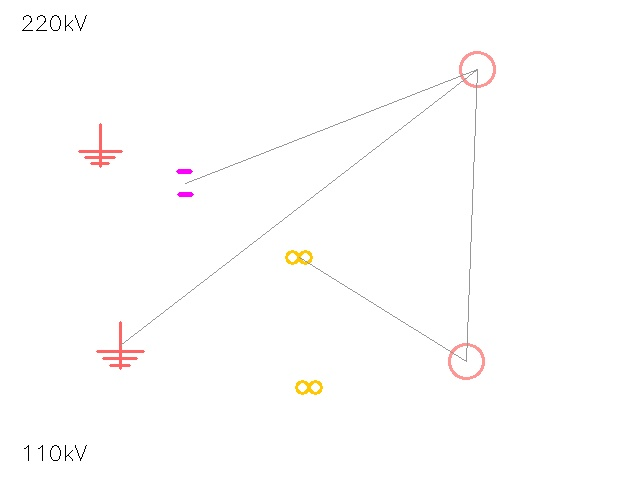capacitor: (166, 164, 204, 202)
current_transformer: (443, 35, 511, 103)
feeder_terminal: (432, 327, 500, 395)
ground: (97, 322, 143, 368), (79, 124, 121, 166)
transformer_2w: (283, 241, 315, 273), (293, 371, 325, 403)
